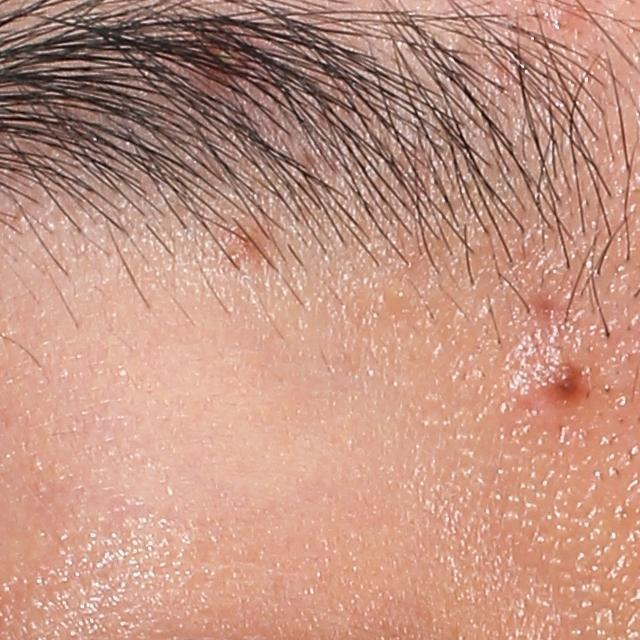nevus: (540, 352, 586, 409)
